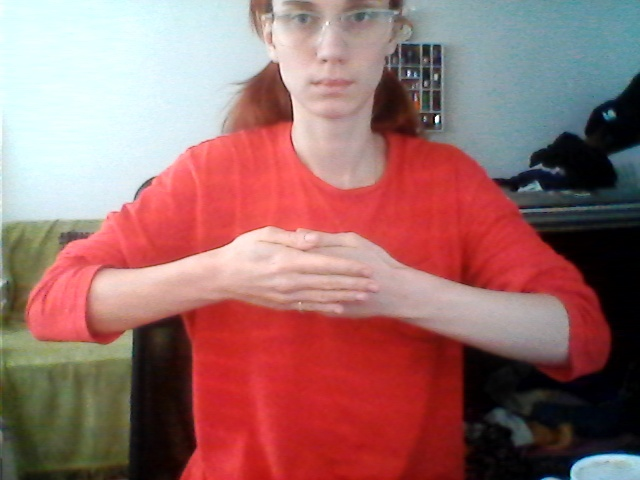dvere: (221, 218, 408, 328)
